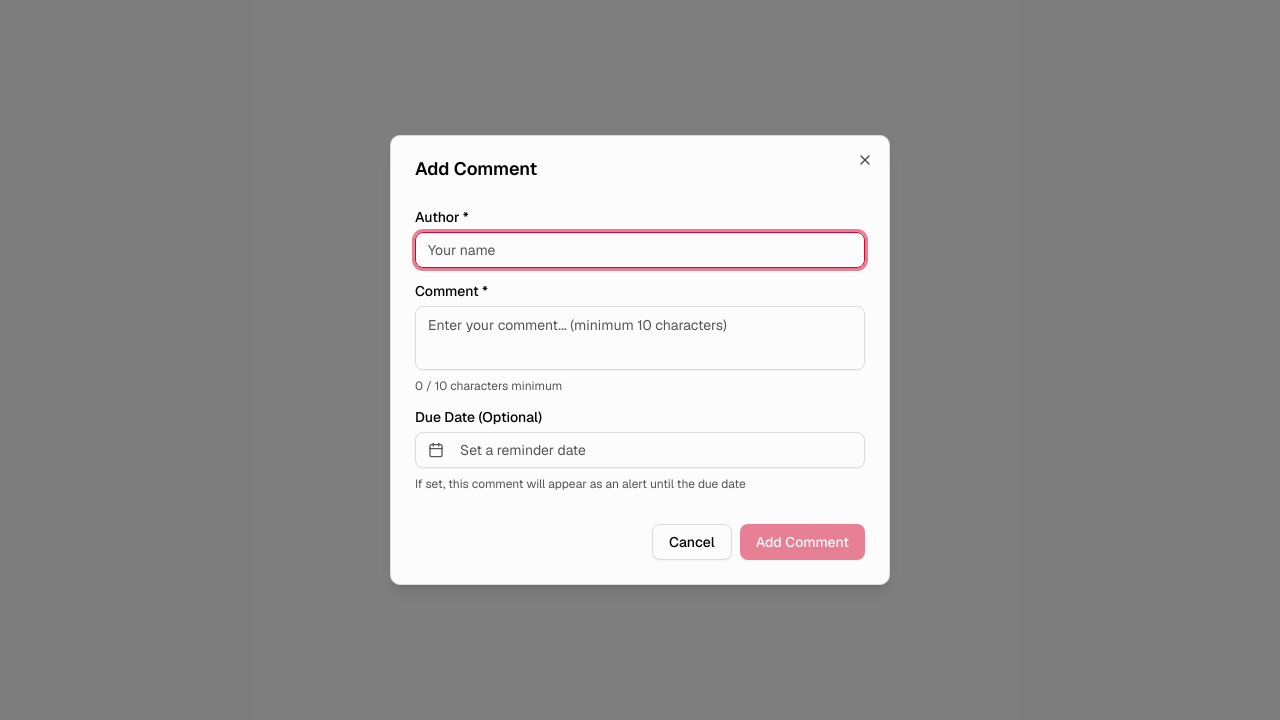
it: CommentDialog › AC-007: Save button states › enables save button when valid
# Fill valid data
Type "Test Author" into the field with placeholder "Your name" at (640, 250), box [415, 232, 865, 268]
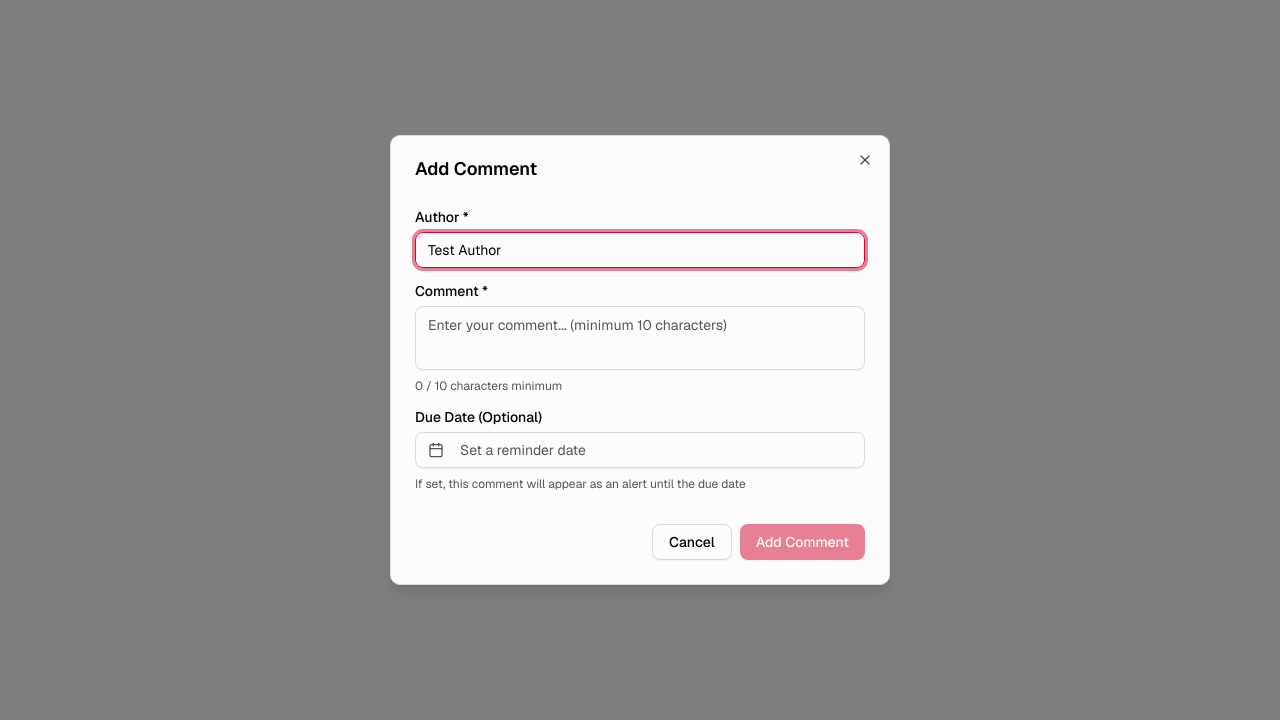
Type "This is a valid comment with enough characters" into the text box with placeholder "Enter your comment... (minimum 10 characters)" at (640, 338), box [415, 306, 865, 370]
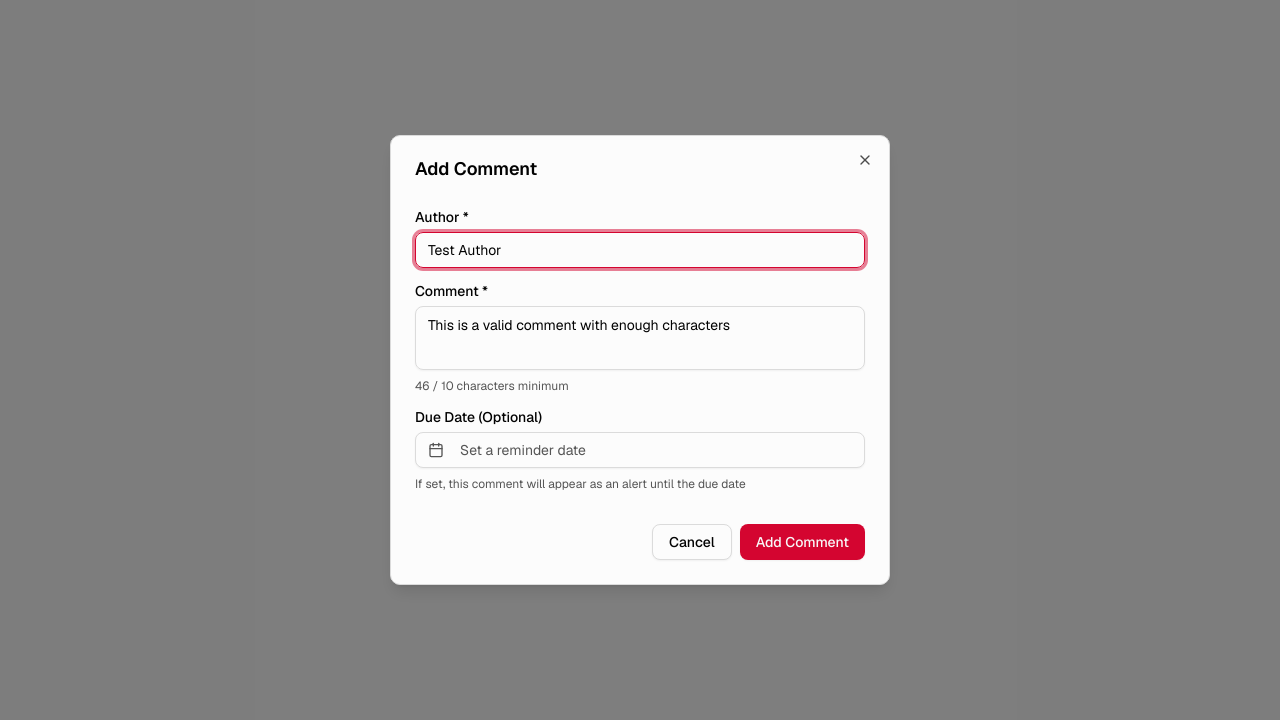
Expected: the button "Add Comment" is enabled, [740, 524, 865, 560]
